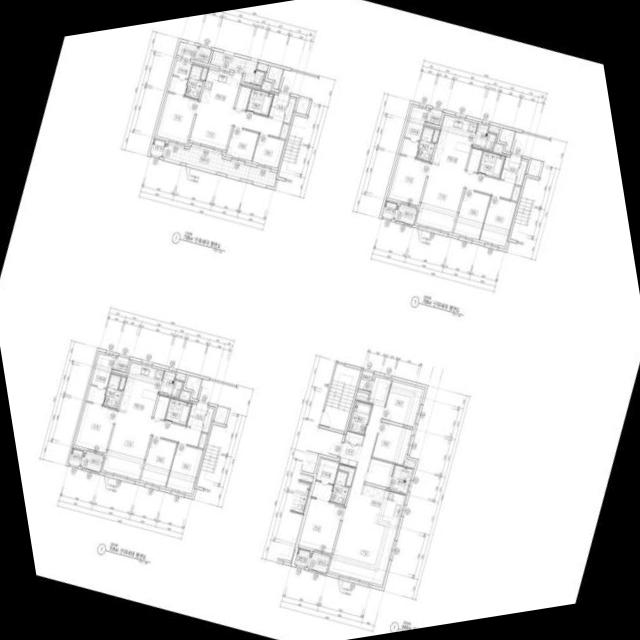background: (0, 0, 640, 640)
space_balconi: (162, 144, 277, 187), (210, 51, 264, 86), (472, 124, 496, 152), (159, 371, 183, 399), (389, 465, 412, 494), (307, 552, 330, 573), (80, 452, 104, 472), (394, 205, 417, 225), (176, 42, 197, 60)
space_bedroom: (298, 498, 344, 554), (75, 402, 117, 454), (388, 155, 430, 206), (157, 93, 198, 144), (382, 381, 423, 427), (140, 437, 177, 487), (166, 444, 203, 494), (454, 190, 490, 240), (480, 197, 516, 247), (372, 422, 412, 465), (252, 134, 285, 168), (227, 127, 259, 161)
space_dressroom: (400, 107, 428, 158), (87, 354, 114, 405), (311, 459, 339, 501), (168, 59, 192, 96)
space_front: (268, 93, 290, 122), (500, 154, 521, 184), (187, 402, 208, 431), (339, 442, 362, 468)
space_kitchen: (432, 115, 477, 171), (119, 363, 164, 418), (355, 485, 405, 529), (201, 69, 242, 109)
space_living_room: (329, 377, 396, 586), (416, 164, 515, 233), (103, 411, 201, 480), (190, 100, 283, 150)
space_other: (365, 459, 394, 488), (185, 375, 202, 400), (153, 396, 170, 420), (467, 148, 483, 173), (267, 66, 283, 90), (235, 86, 251, 110), (499, 128, 515, 152), (338, 465, 355, 487), (358, 371, 373, 392), (284, 98, 296, 124), (202, 408, 214, 433), (195, 47, 212, 64), (426, 109, 443, 126), (516, 160, 527, 186), (527, 159, 542, 178), (214, 406, 229, 425), (113, 356, 129, 373), (296, 96, 310, 115), (345, 431, 364, 445), (511, 186, 520, 202), (198, 433, 207, 449), (280, 124, 289, 139), (179, 391, 190, 402), (356, 391, 369, 400), (257, 63, 269, 72), (200, 68, 208, 81), (261, 82, 271, 92), (493, 144, 503, 154), (432, 130, 439, 143), (119, 377, 126, 390), (488, 127, 499, 134), (175, 374, 185, 381), (404, 461, 414, 468)
space_outdoor_room: (294, 549, 310, 568), (382, 201, 397, 219), (150, 139, 165, 157), (68, 449, 83, 466)
space_staircase: (321, 364, 361, 432)
space_toilet: (349, 401, 372, 434), (478, 151, 505, 178), (165, 398, 191, 426), (247, 89, 273, 116), (416, 127, 435, 162), (103, 374, 122, 409), (184, 65, 203, 99), (330, 471, 349, 505)
